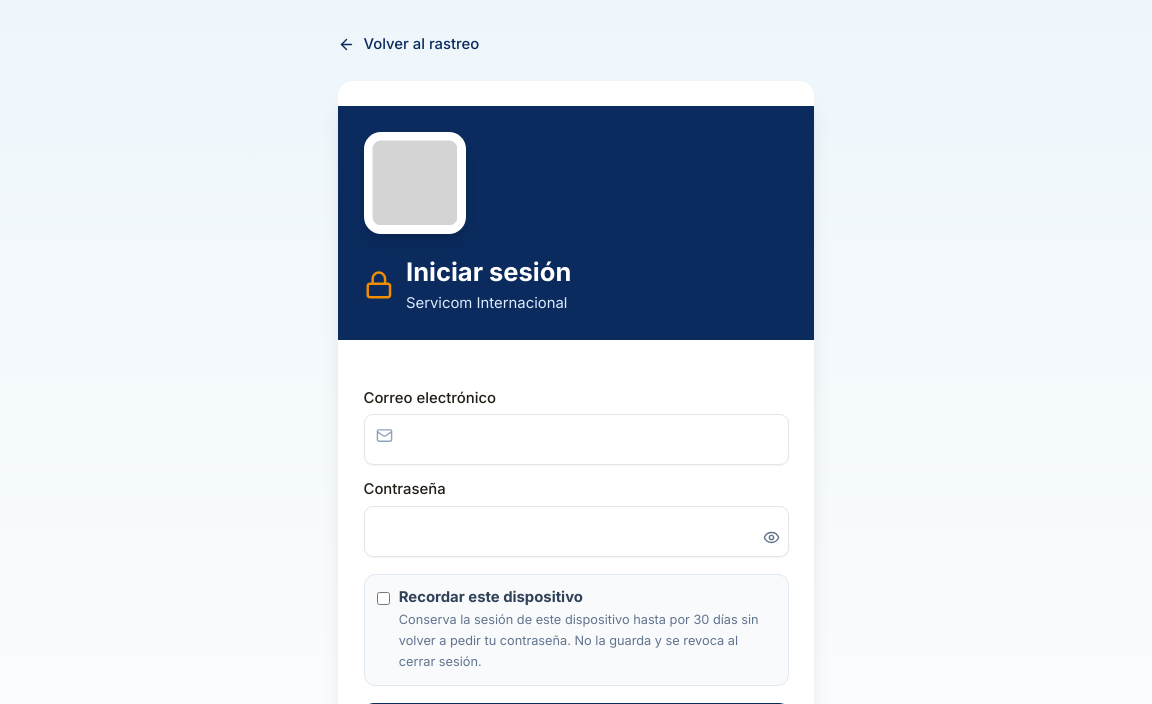
Test case: AccountPage client labels › permite al Cliente mostrar u ocultar la contraseña durante el inicio de sesión
Click the button named "Mostrar contraseña" at (772, 538), box [763,514,780,561]
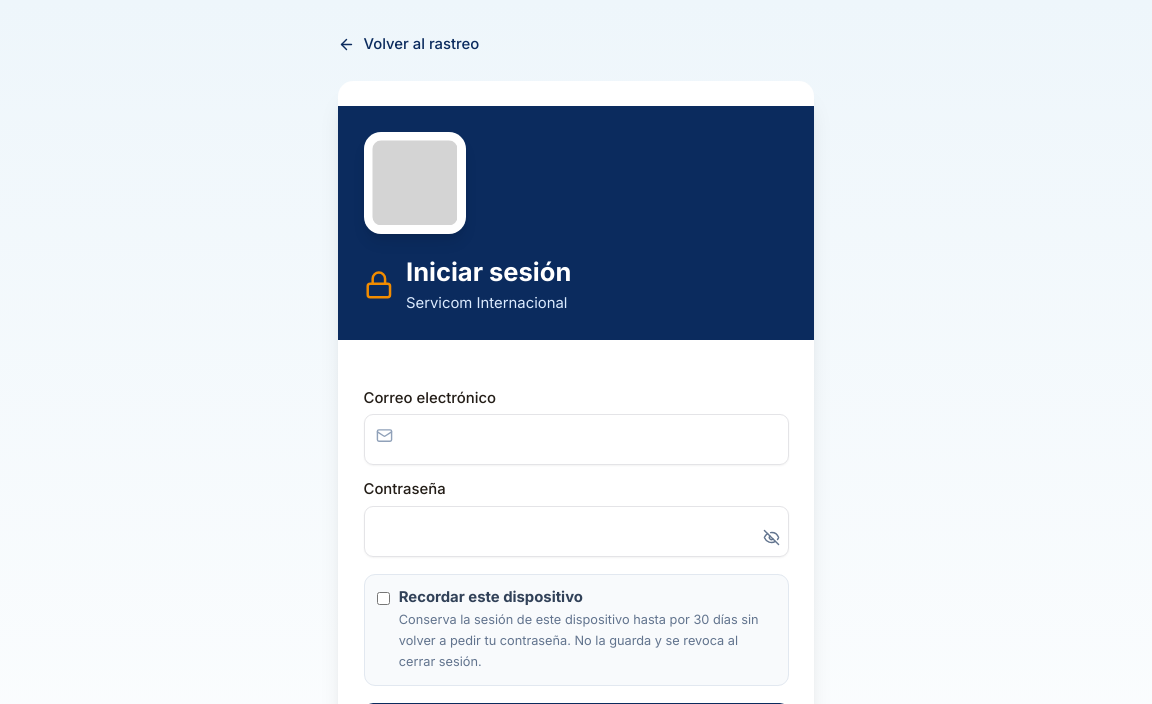
Expected: the button named "Ocultar contraseña" is shown, [763,514,780,561]
